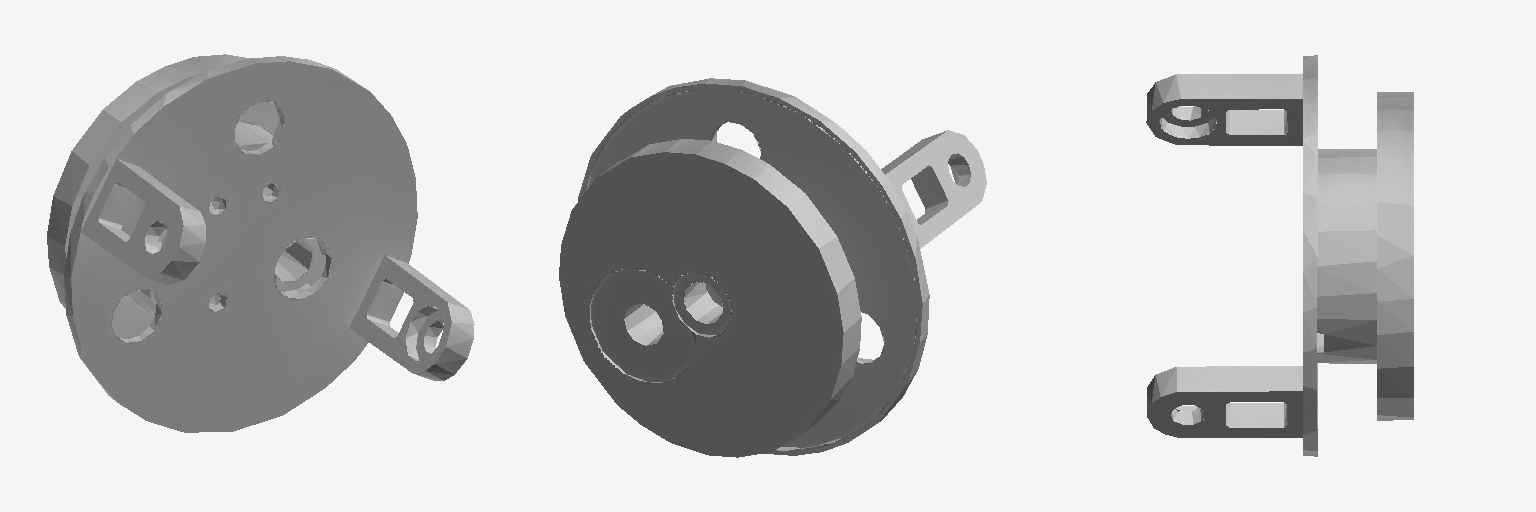
3 views of the same model, side by side, from view 1: azimuth 30°, elevation 25°; view 2: azimuth 150°, elevation 25°; view 3: azimuth 270°, elevation 25° (orthographic).
Parts seen in each view (by area): view 1: Case_Mesh.061; view 2: Case_Mesh.061; view 3: Case_Mesh.061.
Part boxes in pixels (x1,y1,x2,y2): Case_Mesh.061: (47, 54, 474, 432); Case_Mesh.061: (559, 78, 986, 457); Case_Mesh.061: (1146, 55, 1413, 456).
Bounding box in the file's own units: 0.255 × 0.255 × 0.1699.
1 materials, 1 textured.